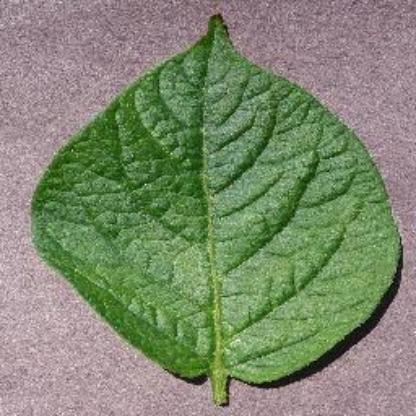Healthy-plant: (19, 27, 406, 406)
